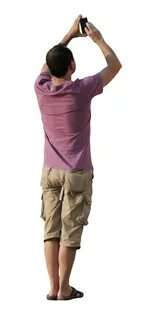awake: (32, 14, 122, 301)
